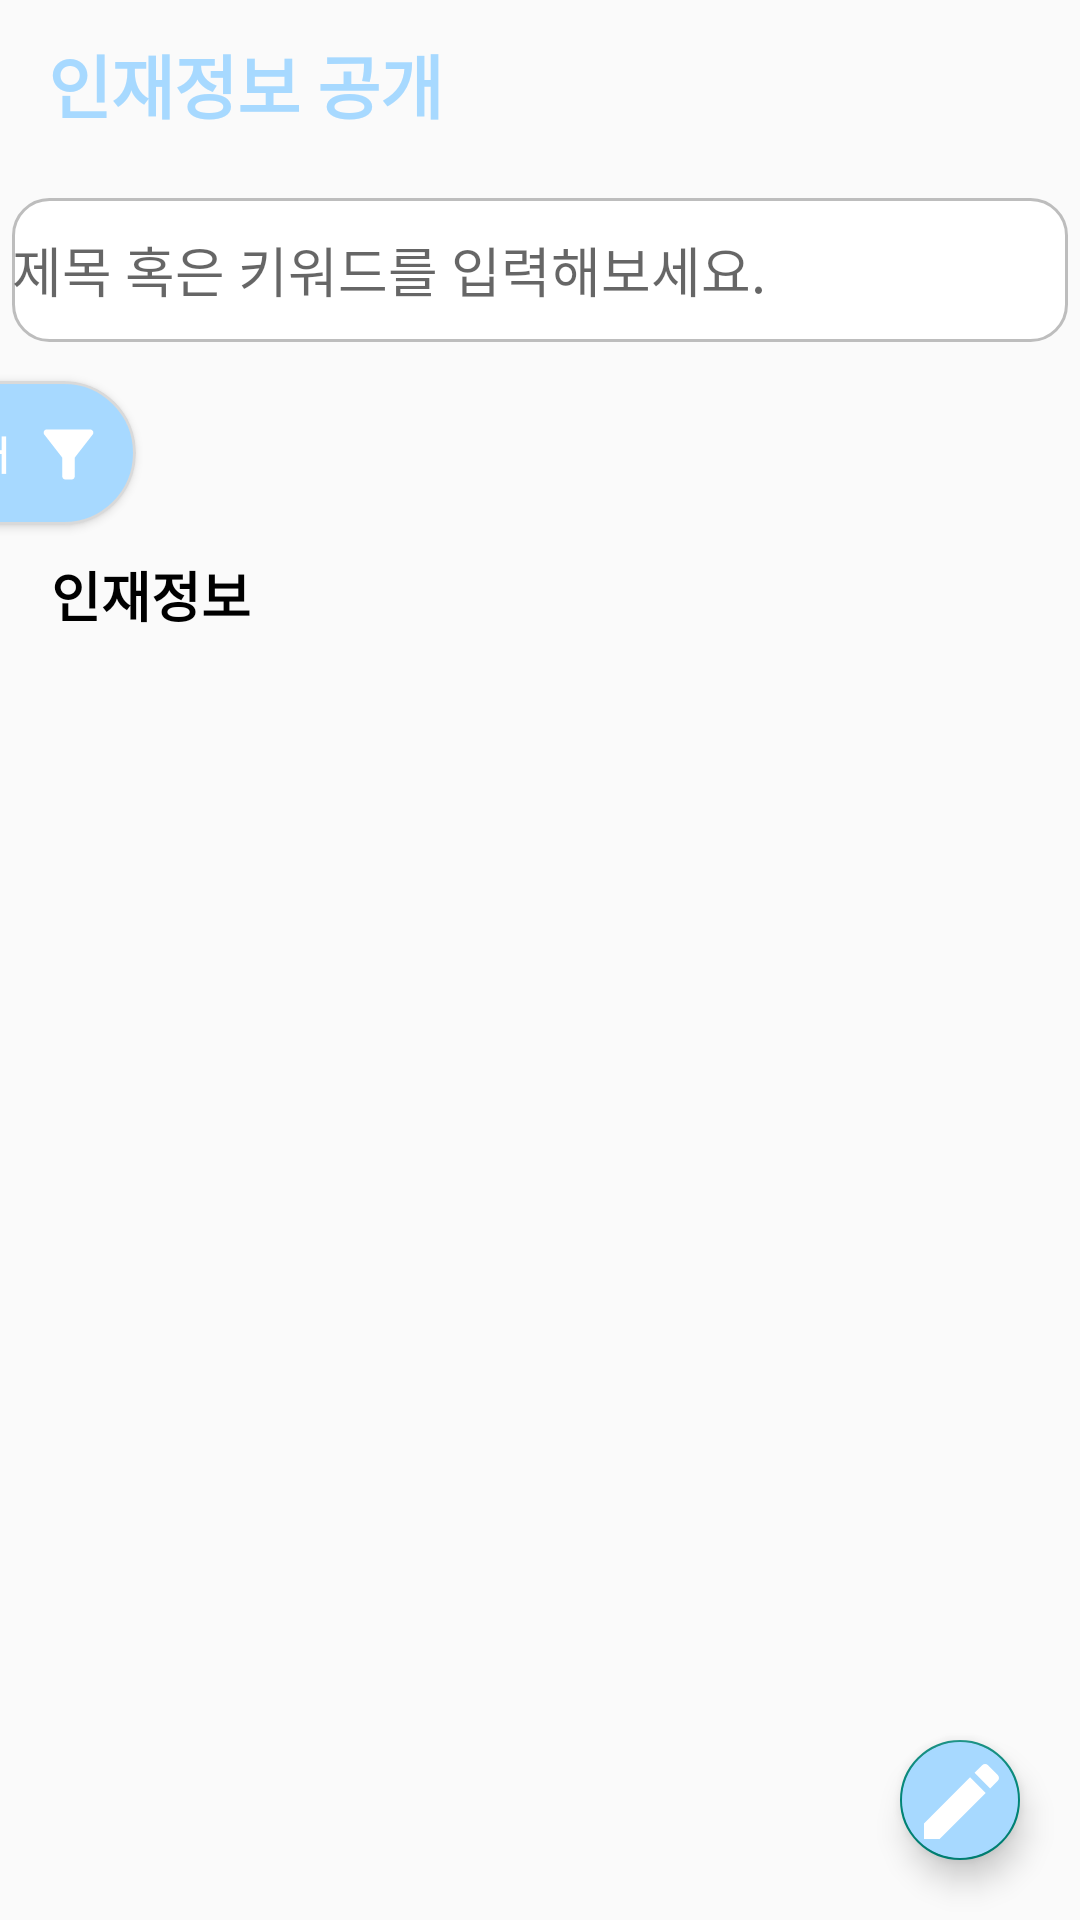

Named icons in this screenshot (1080*1920) and their centers, point (x, y):
write: point (960, 1800)
